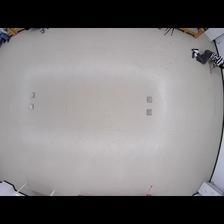fall: (190, 46, 224, 72)
